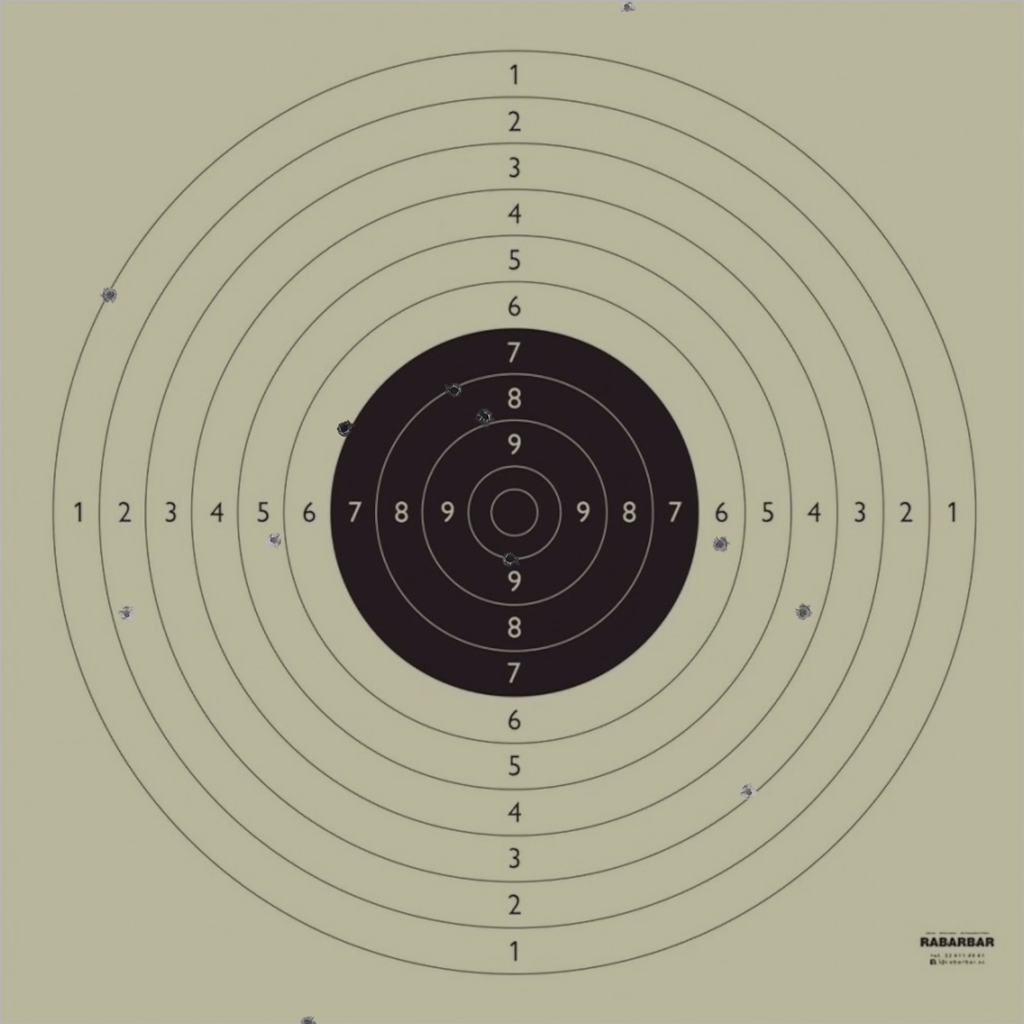0 punktow: (299, 1014, 317, 1024)
1 punkt: (101, 286, 119, 304)
10 punktow: (501, 550, 519, 568)
2 punkty: (117, 605, 136, 623)
3 punkty: (739, 783, 758, 801)
4 punkty: (794, 603, 812, 622)
5 punktow: (265, 531, 283, 549)
6 punktow: (711, 535, 729, 554)
7 punktow: (336, 419, 354, 438)
8 punktow: (445, 381, 463, 399)
9 punktow: (476, 408, 495, 426)
